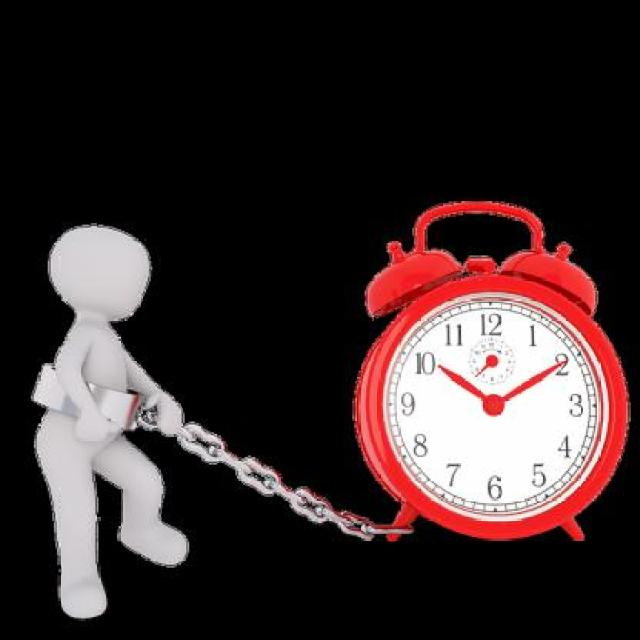clock: (383, 293, 614, 527)
